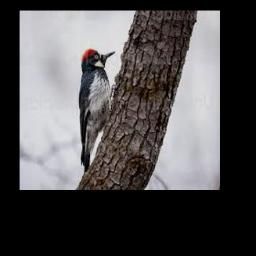Woodpecker: (79, 48, 116, 173)
